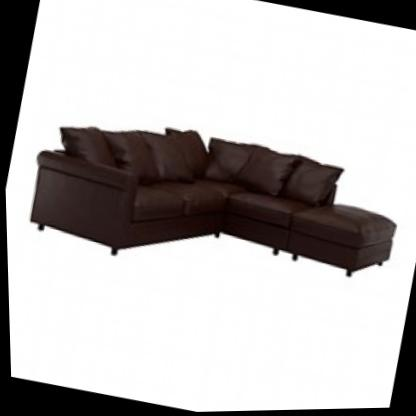Sofa: (4, 82, 414, 312)
